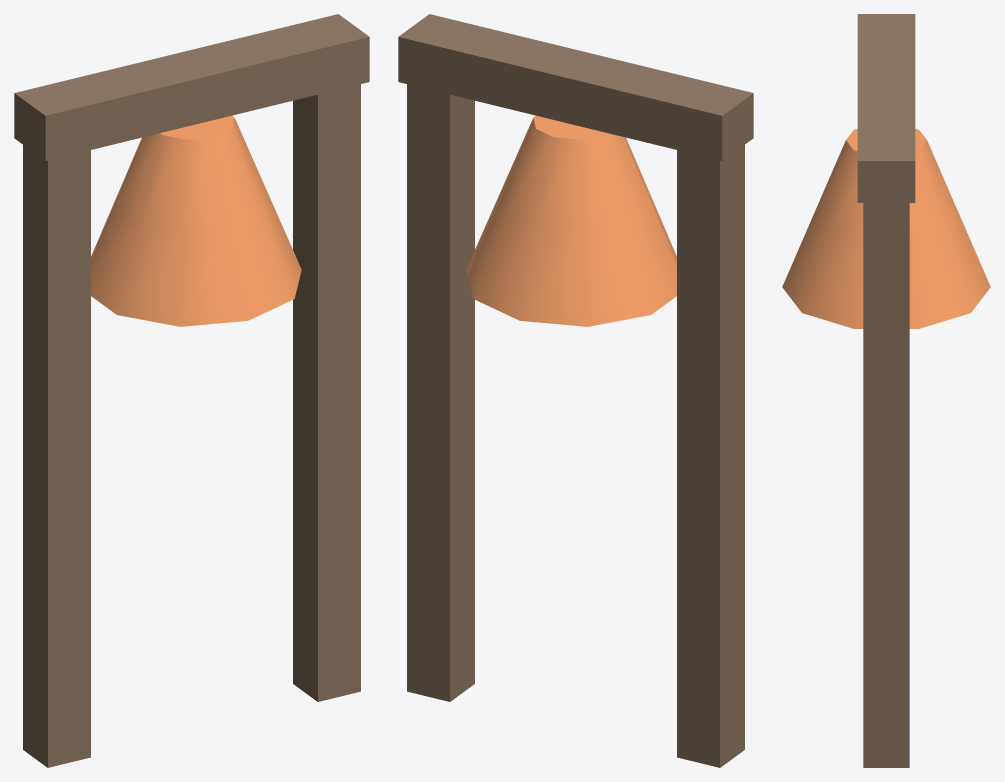
File: build_bell.glb
3 views of the same model, side by side, from view 1: azimuth 30°, elevation 25°; view 2: azimuth 150°, elevation 25°; view 3: azimuth 270°, elevation 25° (orthographic). The views are drawn at different scales.
Parts seen in each view (by area): view 1: Baked, _MeshInstance3D_428; view 2: Baked, _MeshInstance3D_428; view 3: Baked, _MeshInstance3D_428.
Part boxes in pixels (x1=…): Baked: x1=14, y1=14, x2=369, y2=767; _MeshInstance3D_428: x1=91, y1=115, x2=301, y2=326; Baked: x1=398, y1=14, x2=753, y2=767; _MeshInstance3D_428: x1=466, y1=115, x2=676, y2=326; Baked: x1=857, y1=14, x2=915, y2=767; _MeshInstance3D_428: x1=782, y1=129, x2=990, y2=328.
Size of the model in its own units: 0.6 by 1.16 by 0.36.
